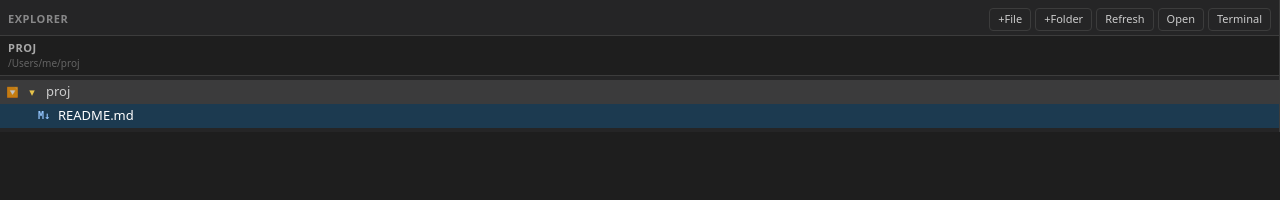
Scenario: Sidebar create file / folder › New File shows an inline input focused on the default name
Click the button with test id "new-file". click: point(1010, 19)
box: left=989, top=8, right=1031, bottom=30
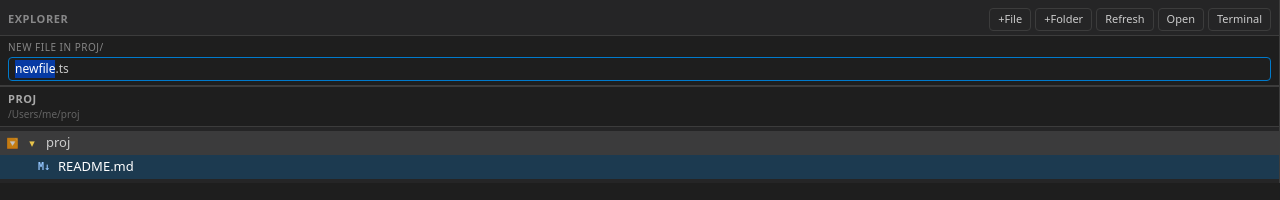
Check: the field with test id "create-input" holds "newfile.ts", box left=8, top=56, right=1271, bottom=80
